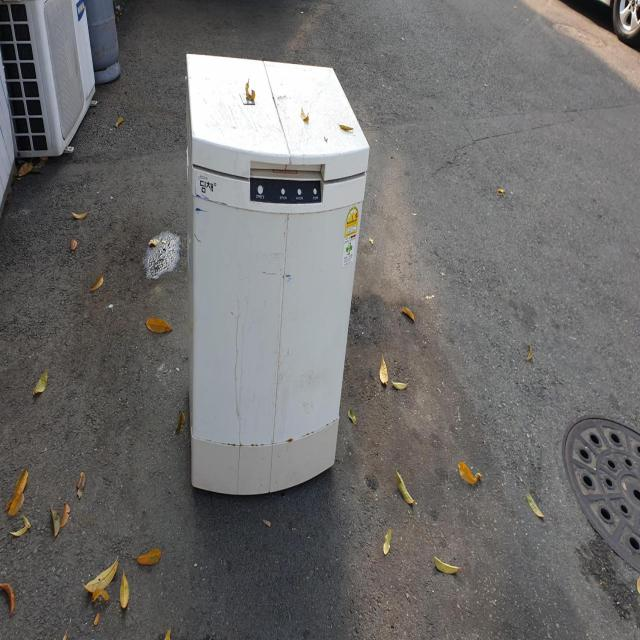refrigerator: (184, 48, 371, 498)
